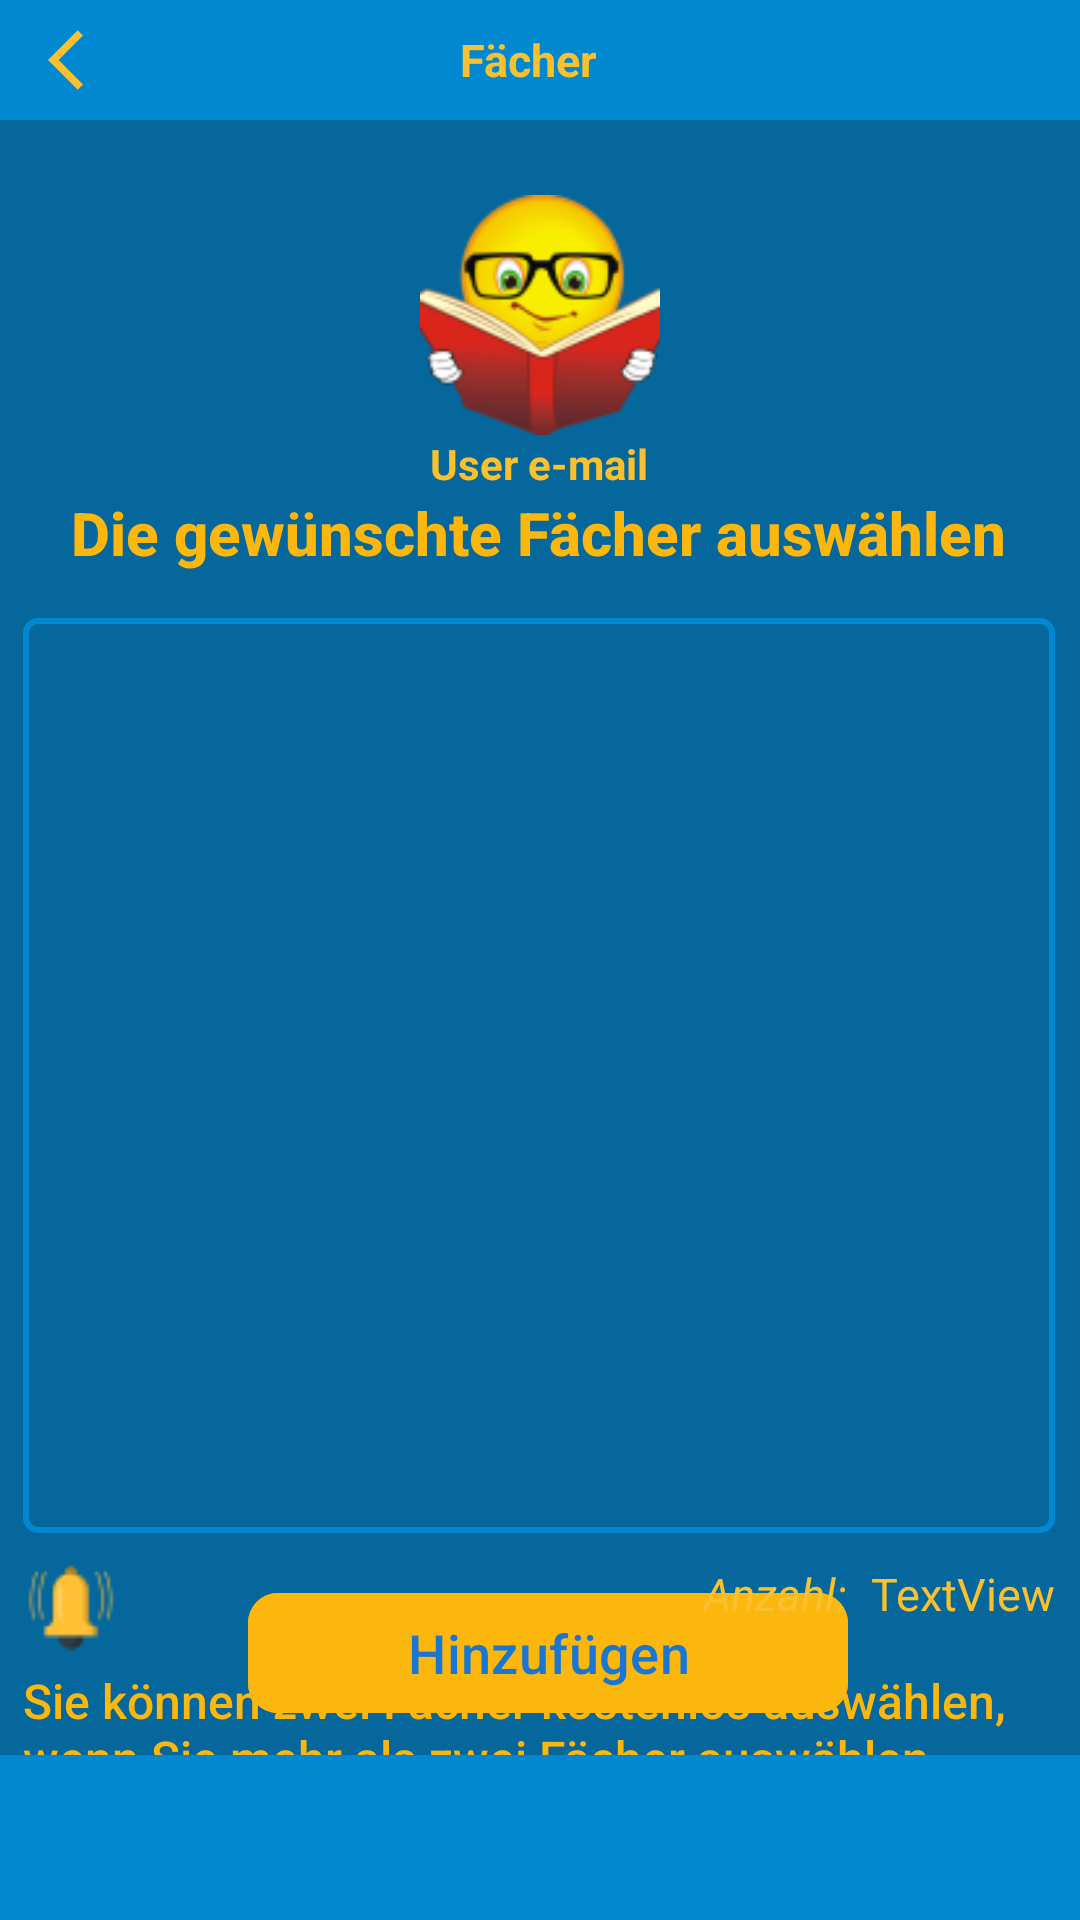

Screen size 1080×1920. Icon name, then its center in pixels as (x=x, y=y):
arrow back: (x=65, y=60)
Notice: (x=71, y=1607)
